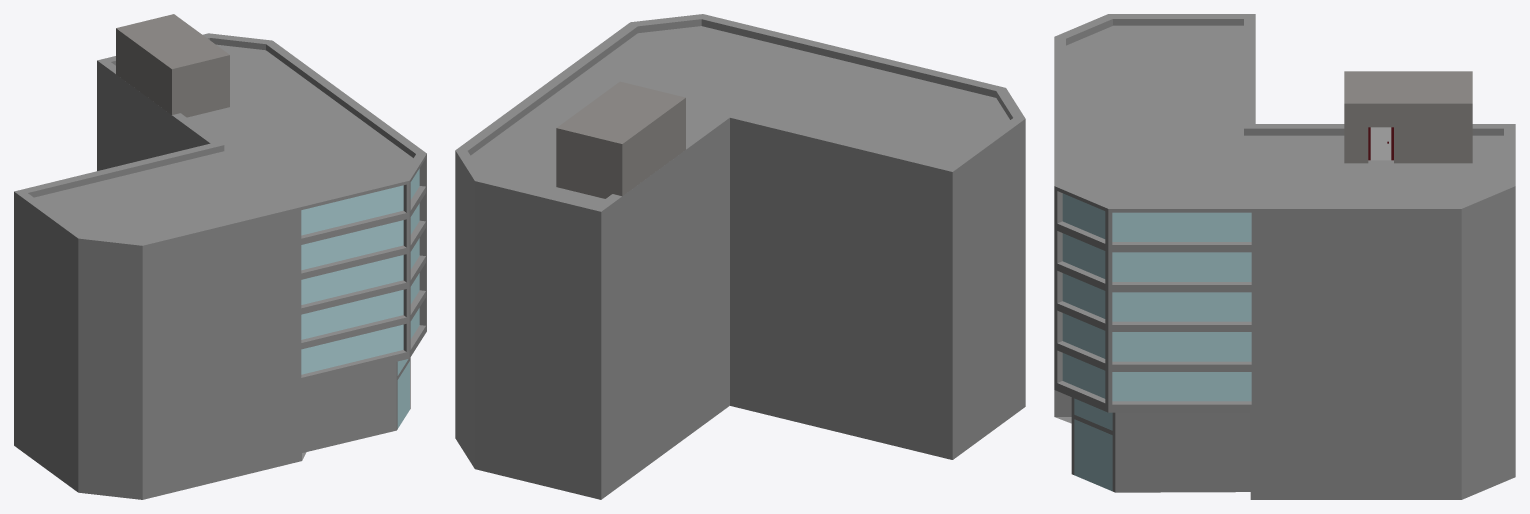
Rendered from Gedung4.fbx.
3 views of the same model, side by side, from view 1: azimuth 30°, elevation 25°; view 2: azimuth 150°, elevation 25°; view 3: azimuth 270°, elevation 25° (orthographic). The views are drawn at different scales.
Parts seen in each view (by area): view 1: Cube.014; view 2: Cube.014; view 3: Cube.014.
Boxes of the visible parts, x1,y1,x2,y2 form: Cube.014: [14, 14, 426, 499]; Cube.014: [455, 14, 1025, 499]; Cube.014: [1054, 14, 1515, 499].
Bounding box in the file's own units: 1388 × 1388 × 1142.
